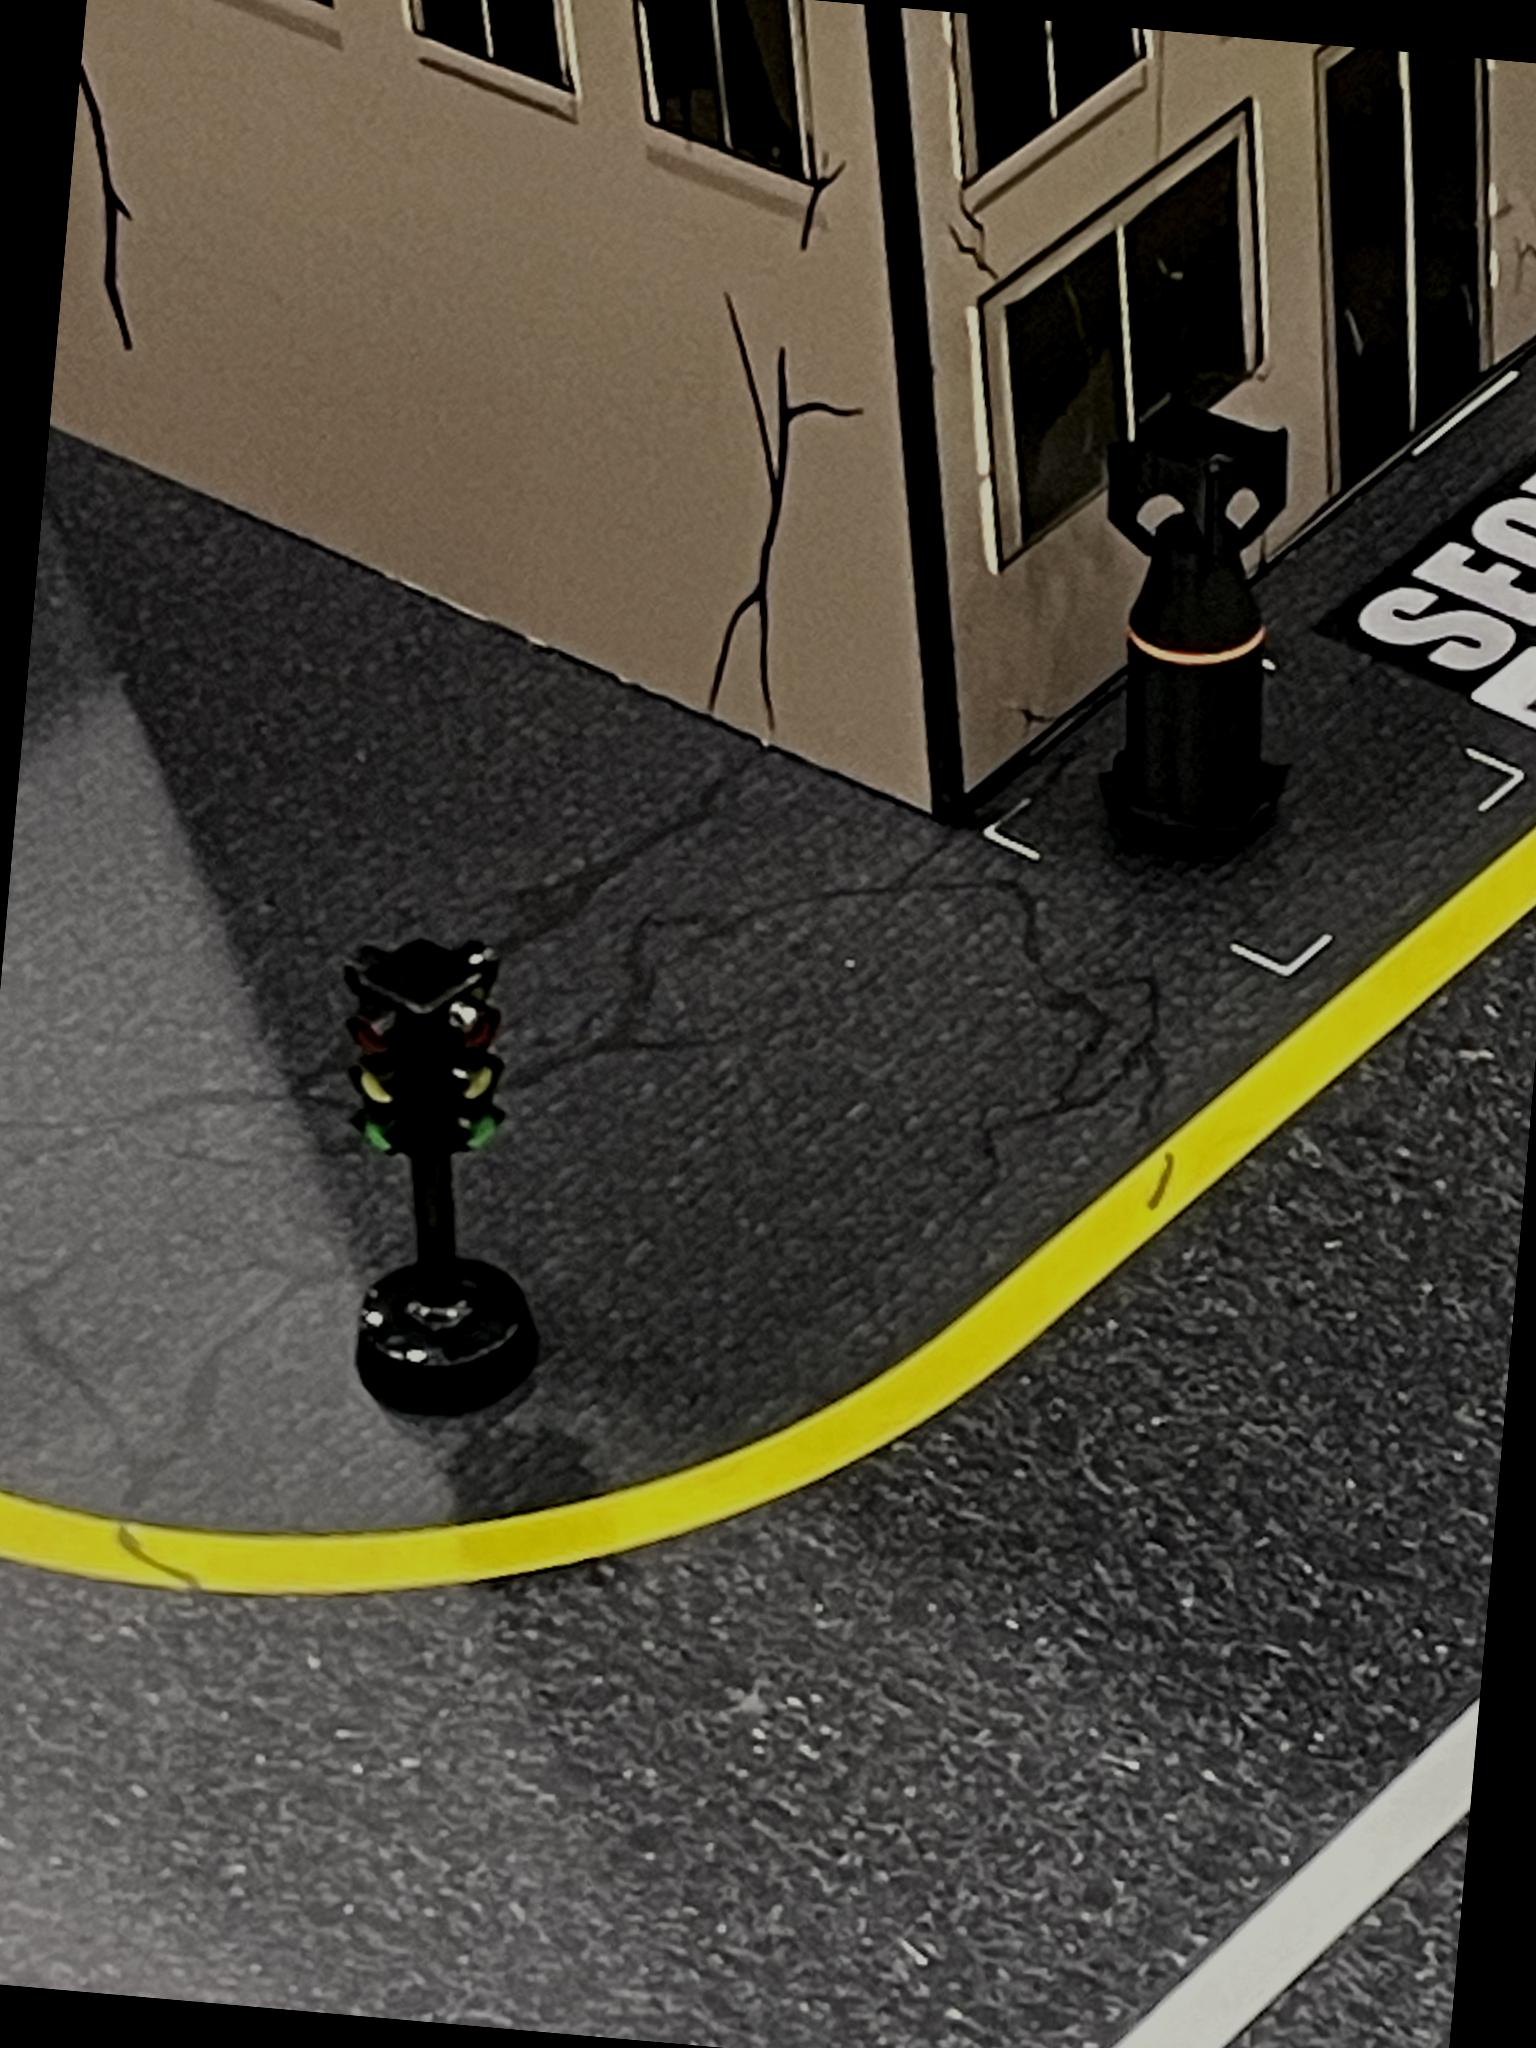Missile: (1068, 389, 1318, 872)
